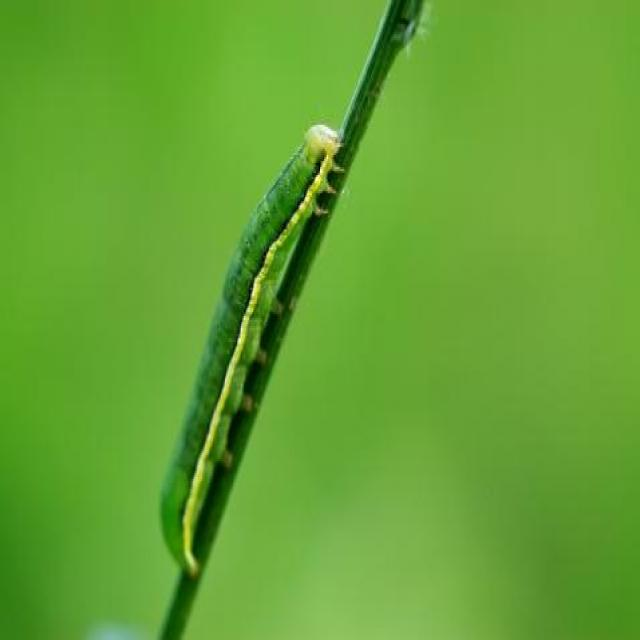BeetArmyWorm-Larva-: (152, 110, 354, 585)
